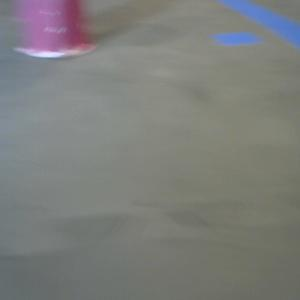middle: (11, 1, 97, 58)
